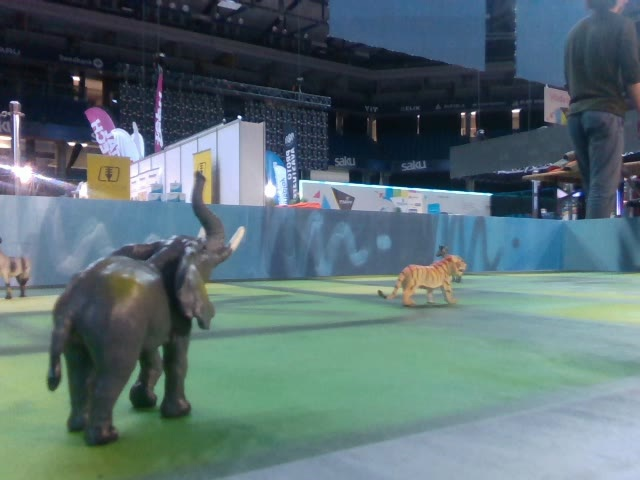toy: (46, 171, 247, 446), (377, 253, 468, 307)
